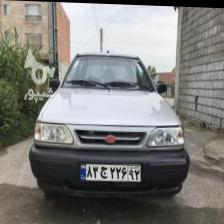plate: (78, 162, 142, 184)
